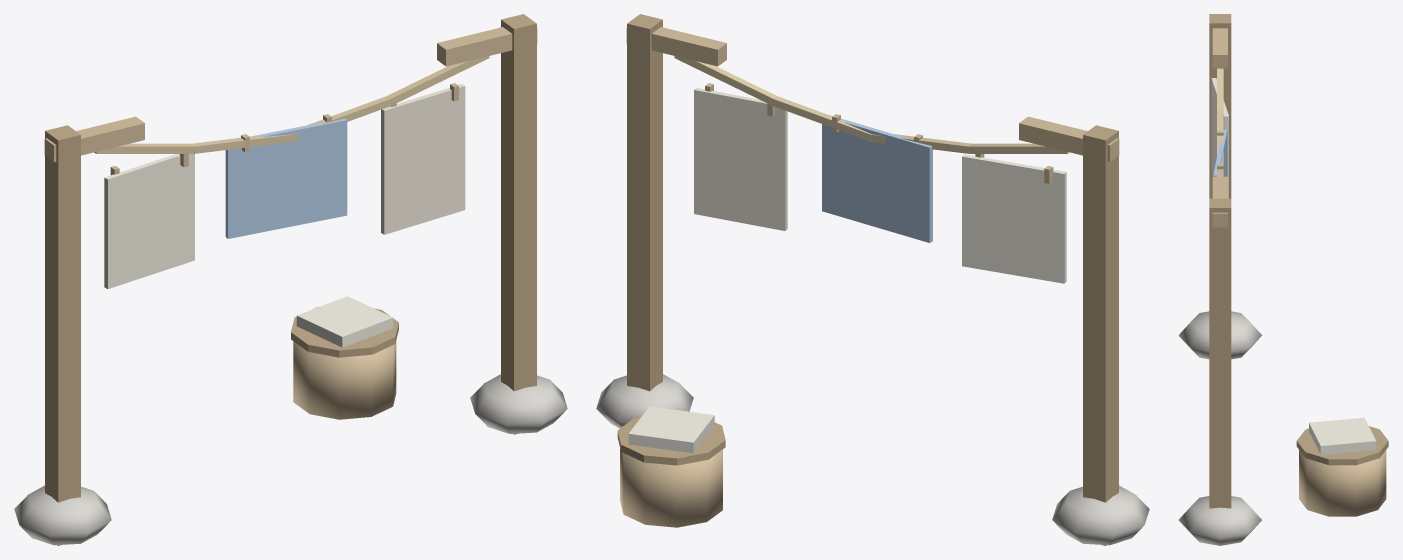
Rendered from laundry_line.fbx.
The picture shows the model from 3 angles, left to right: view 1: azimuth 30°, elevation 25°; view 2: azimuth 150°, elevation 25°; view 3: azimuth 270°, elevation 25°; orthographic projection. The views are drawn at different scales.
Parts seen in each view (by area): view 1: EN_laundry_line; view 2: EN_laundry_line; view 3: EN_laundry_line.
Boxes of the visible parts, <box> form: EN_laundry_line: <box>14,14,567,545</box>; EN_laundry_line: <box>596,14,1149,545</box>; EN_laundry_line: <box>1178,14,1388,545</box>.
Bounding box in the file's own units: 238 × 170 × 96.2.
